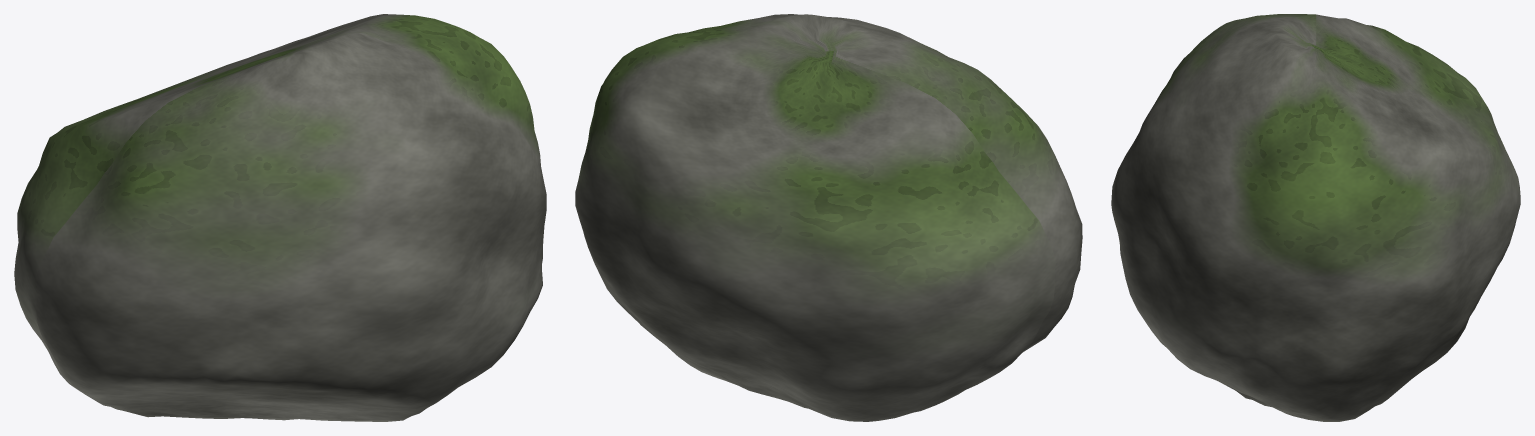
Rendered from PZ_R05_Rounded_River_Boulder_Moss.glb.
The picture shows the model from 3 angles, left to right: view 1: azimuth 30°, elevation 25°; view 2: azimuth 150°, elevation 25°; view 3: azimuth 270°, elevation 25°; orthographic projection. The views are drawn at different scales.
Visible parts, largest first — view 1: RENDER_R05_Rounded_River_Boulder_Moss; view 2: RENDER_R05_Rounded_River_Boulder_Moss; view 3: RENDER_R05_Rounded_River_Boulder_Moss.
Boxes of the visible parts, x1,y1,x2,y2 form: RENDER_R05_Rounded_River_Boulder_Moss: (14, 14, 546, 421); RENDER_R05_Rounded_River_Boulder_Moss: (575, 14, 1082, 421); RENDER_R05_Rounded_River_Boulder_Moss: (1111, 14, 1520, 421).
Size of the model in its own units: 1.35 by 0.96 by 1.09.
1 material, 1 textured.
